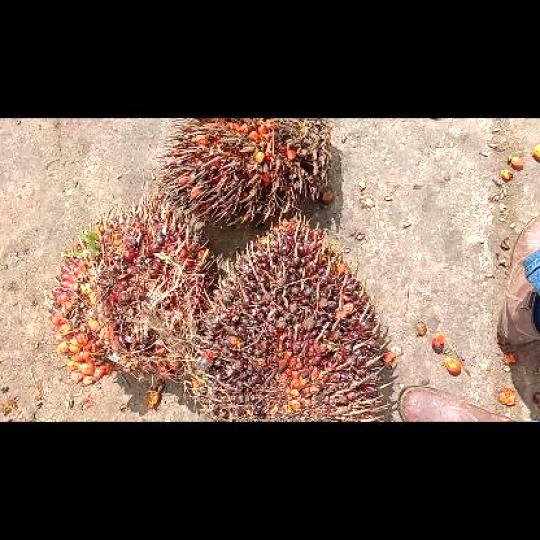kurang masak: (189, 216, 385, 420)
masak: (51, 206, 204, 386)
terlalu masak: (161, 119, 330, 224)
